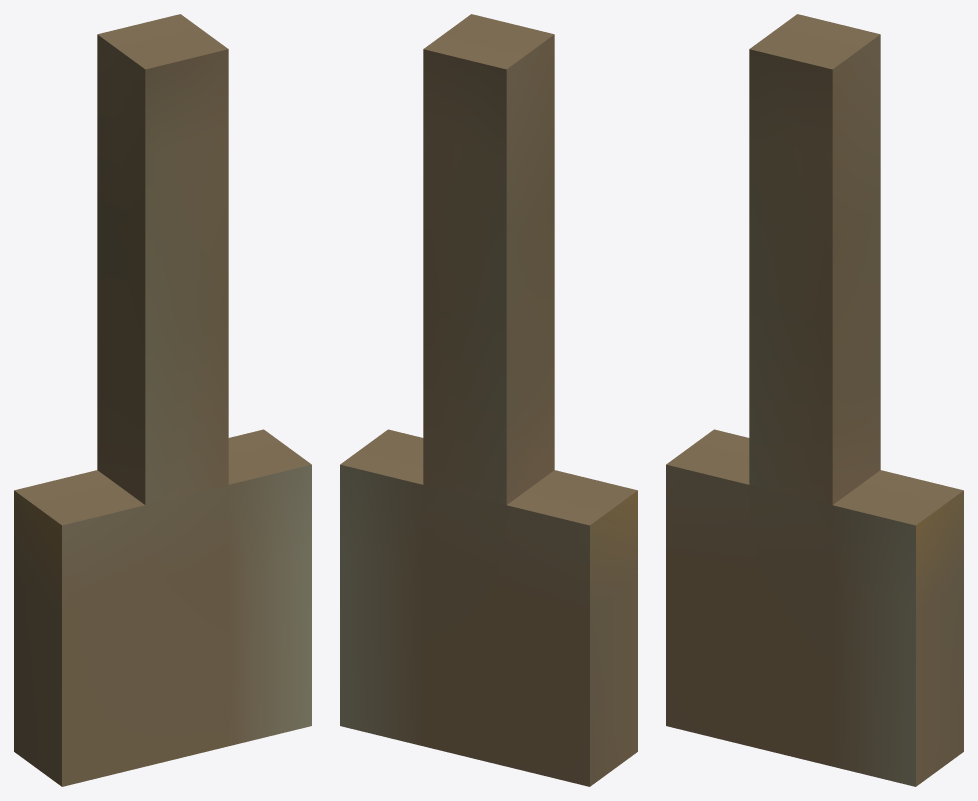
The model's file is SoupLadle_A_00.fbx.
The picture shows the model from 3 angles, left to right: view 1: azimuth 30°, elevation 25°; view 2: azimuth 150°, elevation 25°; view 3: azimuth 330°, elevation 25°; orthographic projection.
Visible parts, largest first — view 1: SoupLadle_A_00; view 2: SoupLadle_A_00; view 3: SoupLadle_A_00.
Boxes of the visible parts, left/top/right/bottom form: SoupLadle_A_00: left=14, top=14, right=311, bottom=786; SoupLadle_A_00: left=340, top=14, right=637, bottom=786; SoupLadle_A_00: left=666, top=14, right=963, bottom=786.
Size of the model in its own units: 15 by 5 by 40.
Materials: 1 (1 with a texture image).
